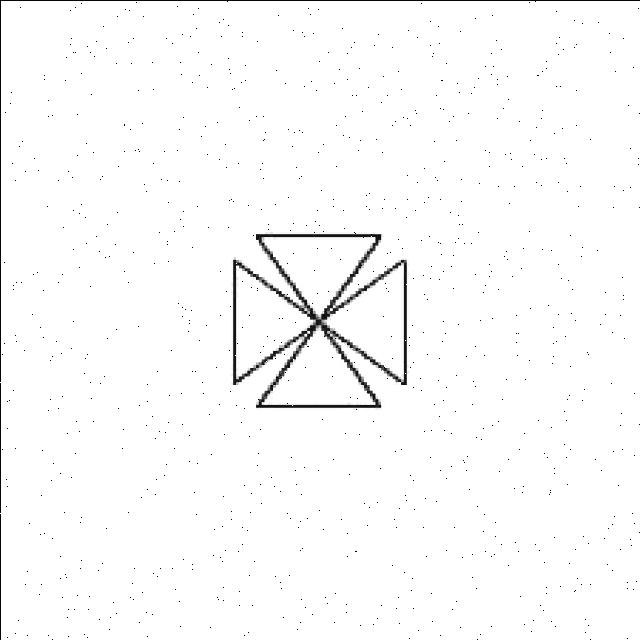4 Way Gate Valve: (206, 185, 443, 452)
